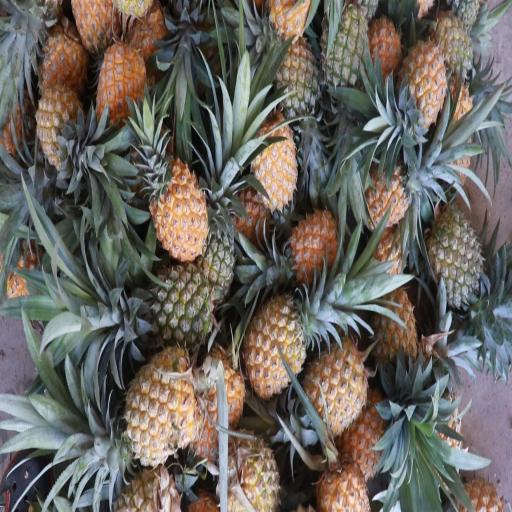------------------------------: (269, 31, 325, 135)
Pineapple - v8 v1: (120, 344, 204, 476), (246, 287, 318, 403), (300, 340, 372, 443), (146, 152, 211, 254), (396, 20, 450, 140), (279, 192, 340, 297), (215, 427, 290, 512), (246, 108, 300, 223), (368, 284, 426, 386), (93, 44, 149, 141), (34, 82, 86, 180)
